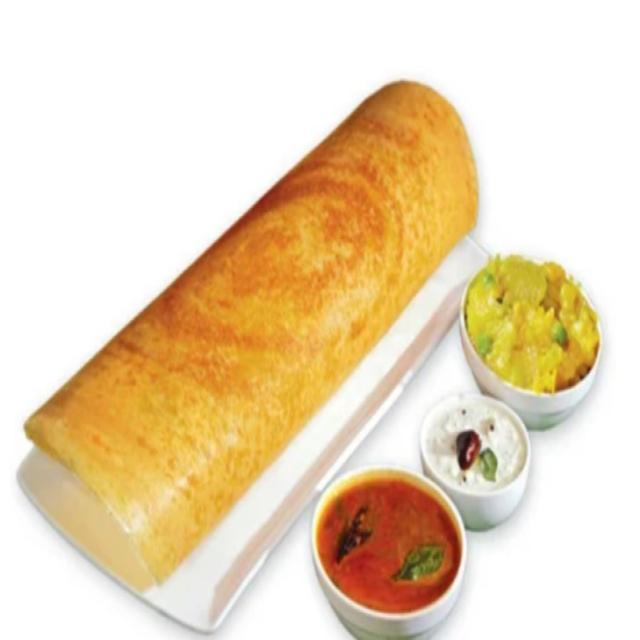DOSA: (22, 80, 480, 601)
SAMBAR: (310, 467, 468, 613)
SWEET: (459, 255, 604, 432)
WHITE CHUTNEY: (419, 394, 531, 537)
